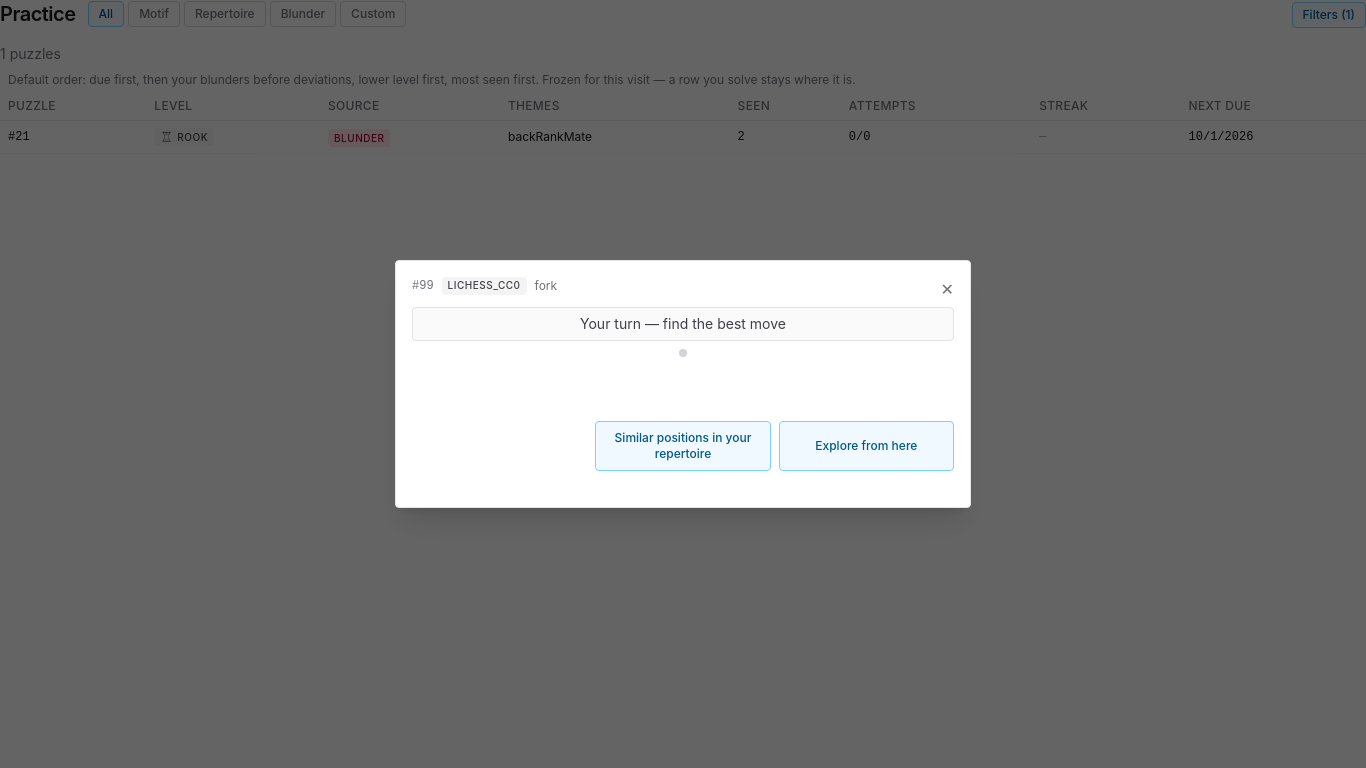
Practice page › shows the list for srs=all and opens a row in the overlay; ?puzzle= deep-links
Click the button named "Close".
click(947, 289)  # box [941,277,954,301]
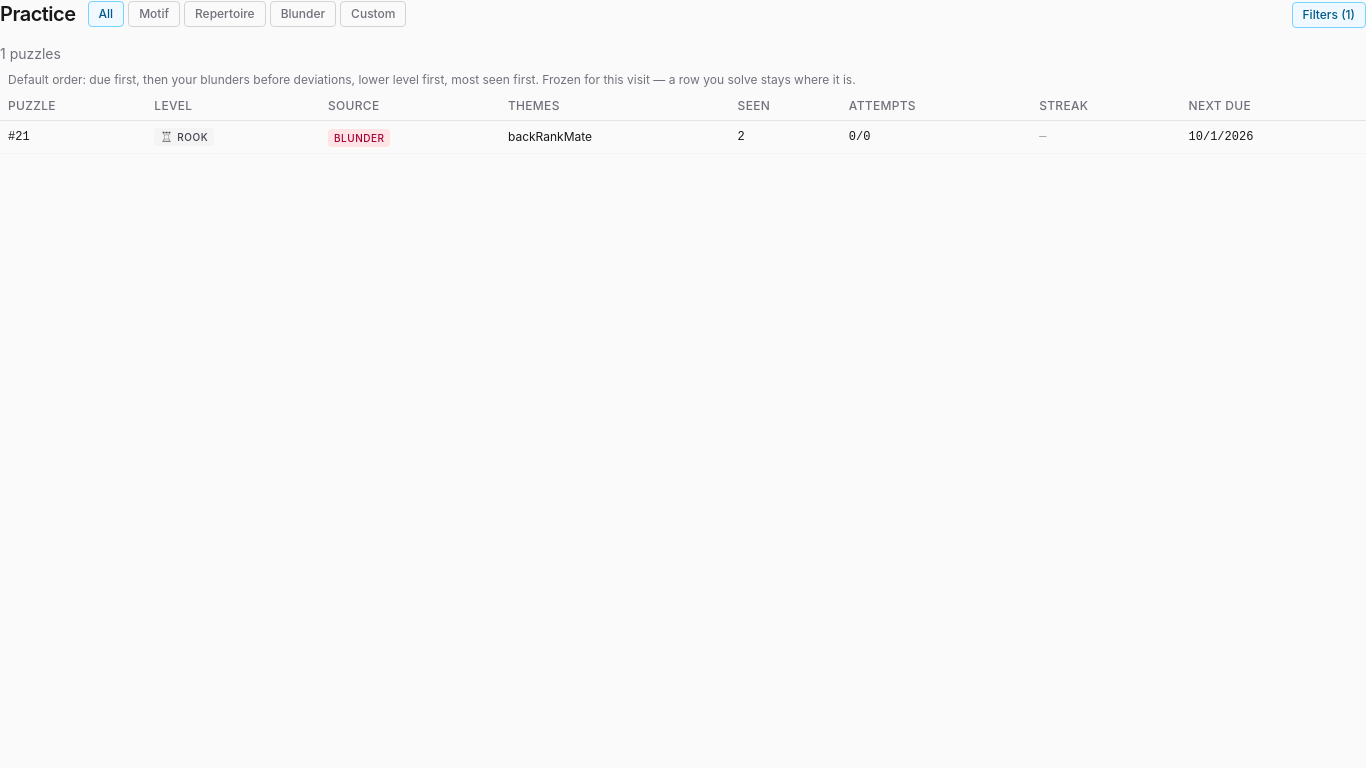
Expected: the text "rook" is shown, [177,131,208,143]
Expected: the dialog is gone
Click the text "#21".
click(12, 137)  # box [0,120,146,154]
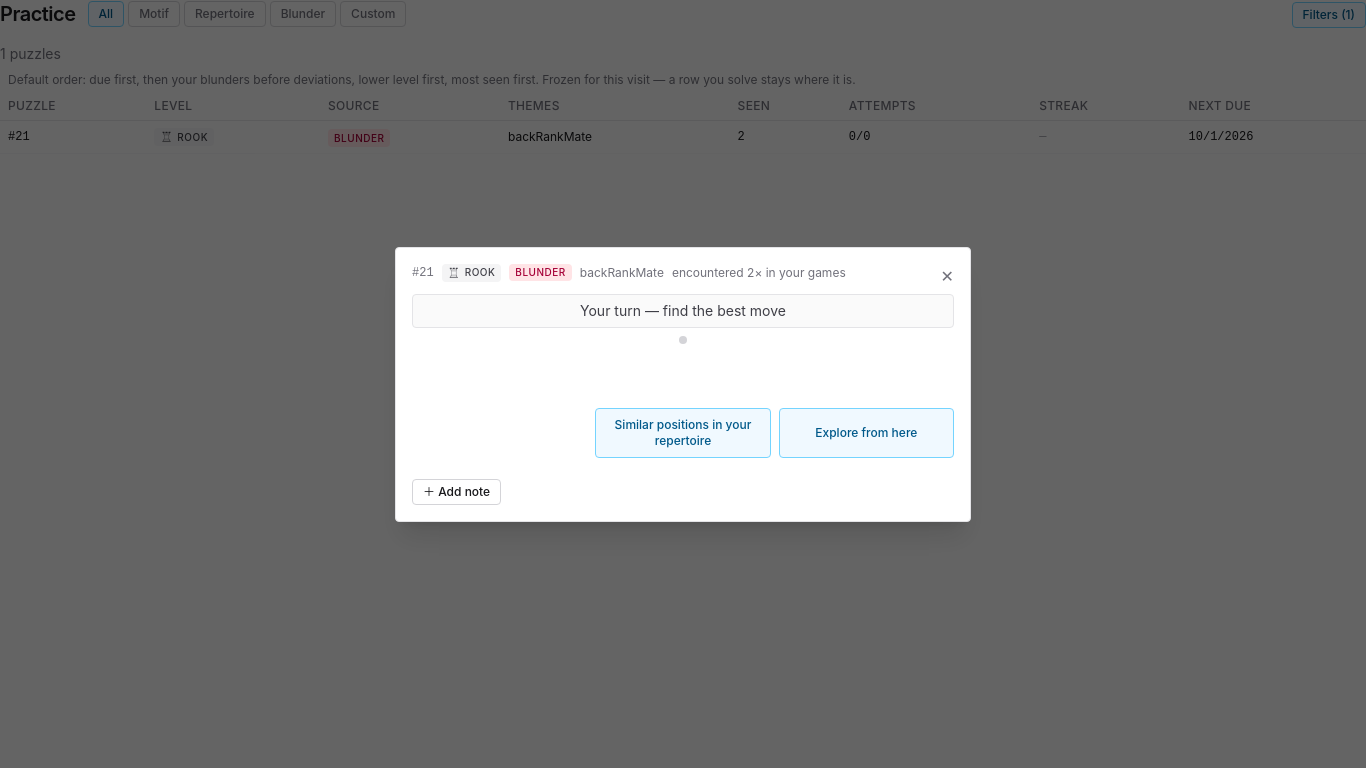
Expected: the dialog named "Puzzle 21" is shown
